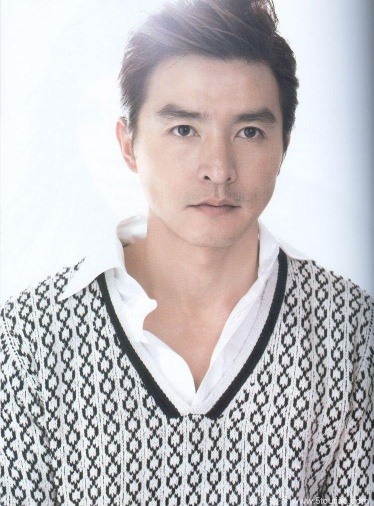male: (99, 1, 321, 256)
